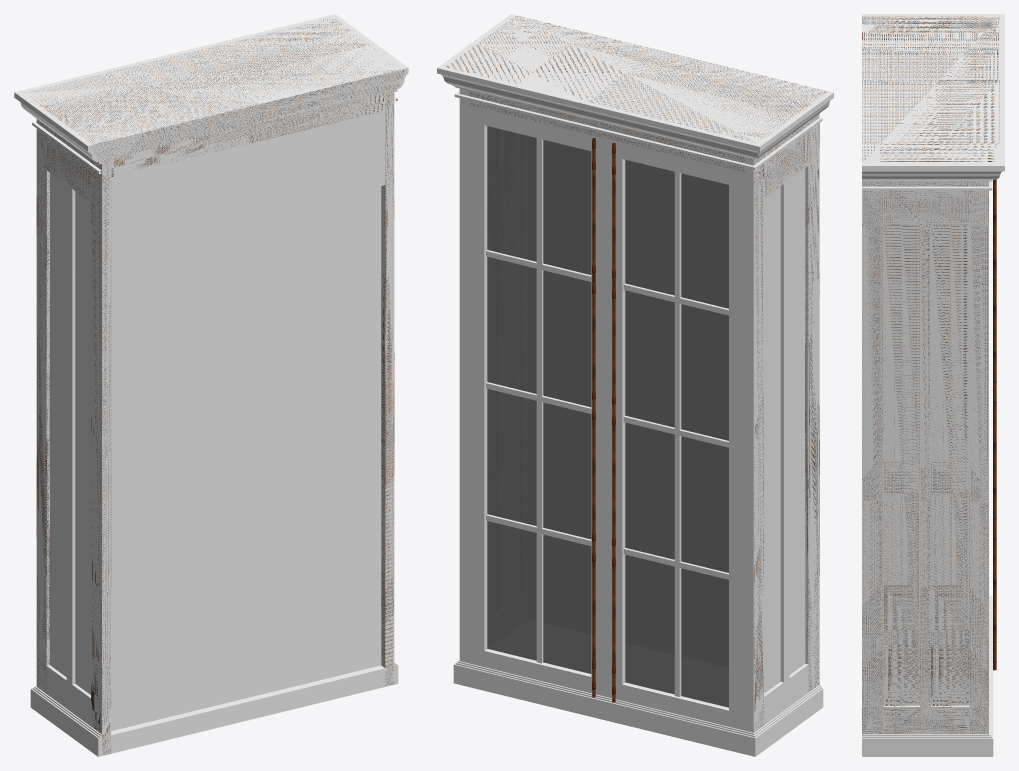
3 views of the same model, side by side, from view 1: azimuth 30°, elevation 25°; view 2: azimuth 150°, elevation 25°; view 3: azimuth 270°, elevation 25° (orthographic). The views are drawn at different scales.
Parts seen in each view (by area): view 1: mesh199_mesh199-geometry, mesh203_mesh203-geometry, mesh201_mesh201-geometry, mesh193_mesh193-geometry, mesh195_mesh195-geometry, mesh197_mesh197-geometry; view 2: mesh1_mesh1-geometry, mesh4_mesh4-geometry, mesh203_mesh203-geometry, mesh193_mesh193-geometry, mesh195_mesh195-geometry, mesh7_mesh7-geometry, mesh100_mesh100-geometry, mesh197_mesh197-geometry; view 3: mesh203_mesh203-geometry, mesh100_mesh100-geometry.
Boxes of the visible parts, x1,y1,x2,y2 form: mesh199_mesh199-geometry: [111, 186, 381, 730]; mesh203_mesh203-geometry: [14, 14, 408, 756]; mesh201_mesh201-geometry: [111, 111, 385, 251]; mesh193_mesh193-geometry: [50, 173, 90, 694]; mesh195_mesh195-geometry: [66, 185, 75, 684]; mesh197_mesh197-geometry: [46, 665, 90, 726]; mesh1_mesh1-geometry: [606, 139, 744, 730]; mesh4_mesh4-geometry: [469, 105, 606, 696]; mesh203_mesh203-geometry: [437, 14, 833, 756]; mesh193_mesh193-geometry: [764, 168, 805, 693]; mesh195_mesh195-geometry: [780, 180, 789, 682]; mesh7_mesh7-geometry: [612, 143, 615, 702]; mesh100_mesh100-geometry: [592, 138, 595, 697]; mesh197_mesh197-geometry: [764, 664, 808, 724]; mesh203_mesh203-geometry: [862, 14, 1004, 756]; mesh100_mesh100-geometry: [993, 179, 996, 670].
Size of the model in its own units: 0.4717 by 0.8616 by 0.1873.
